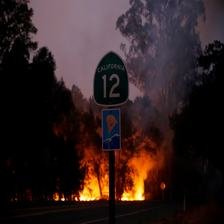fire: (52, 110, 179, 209)
